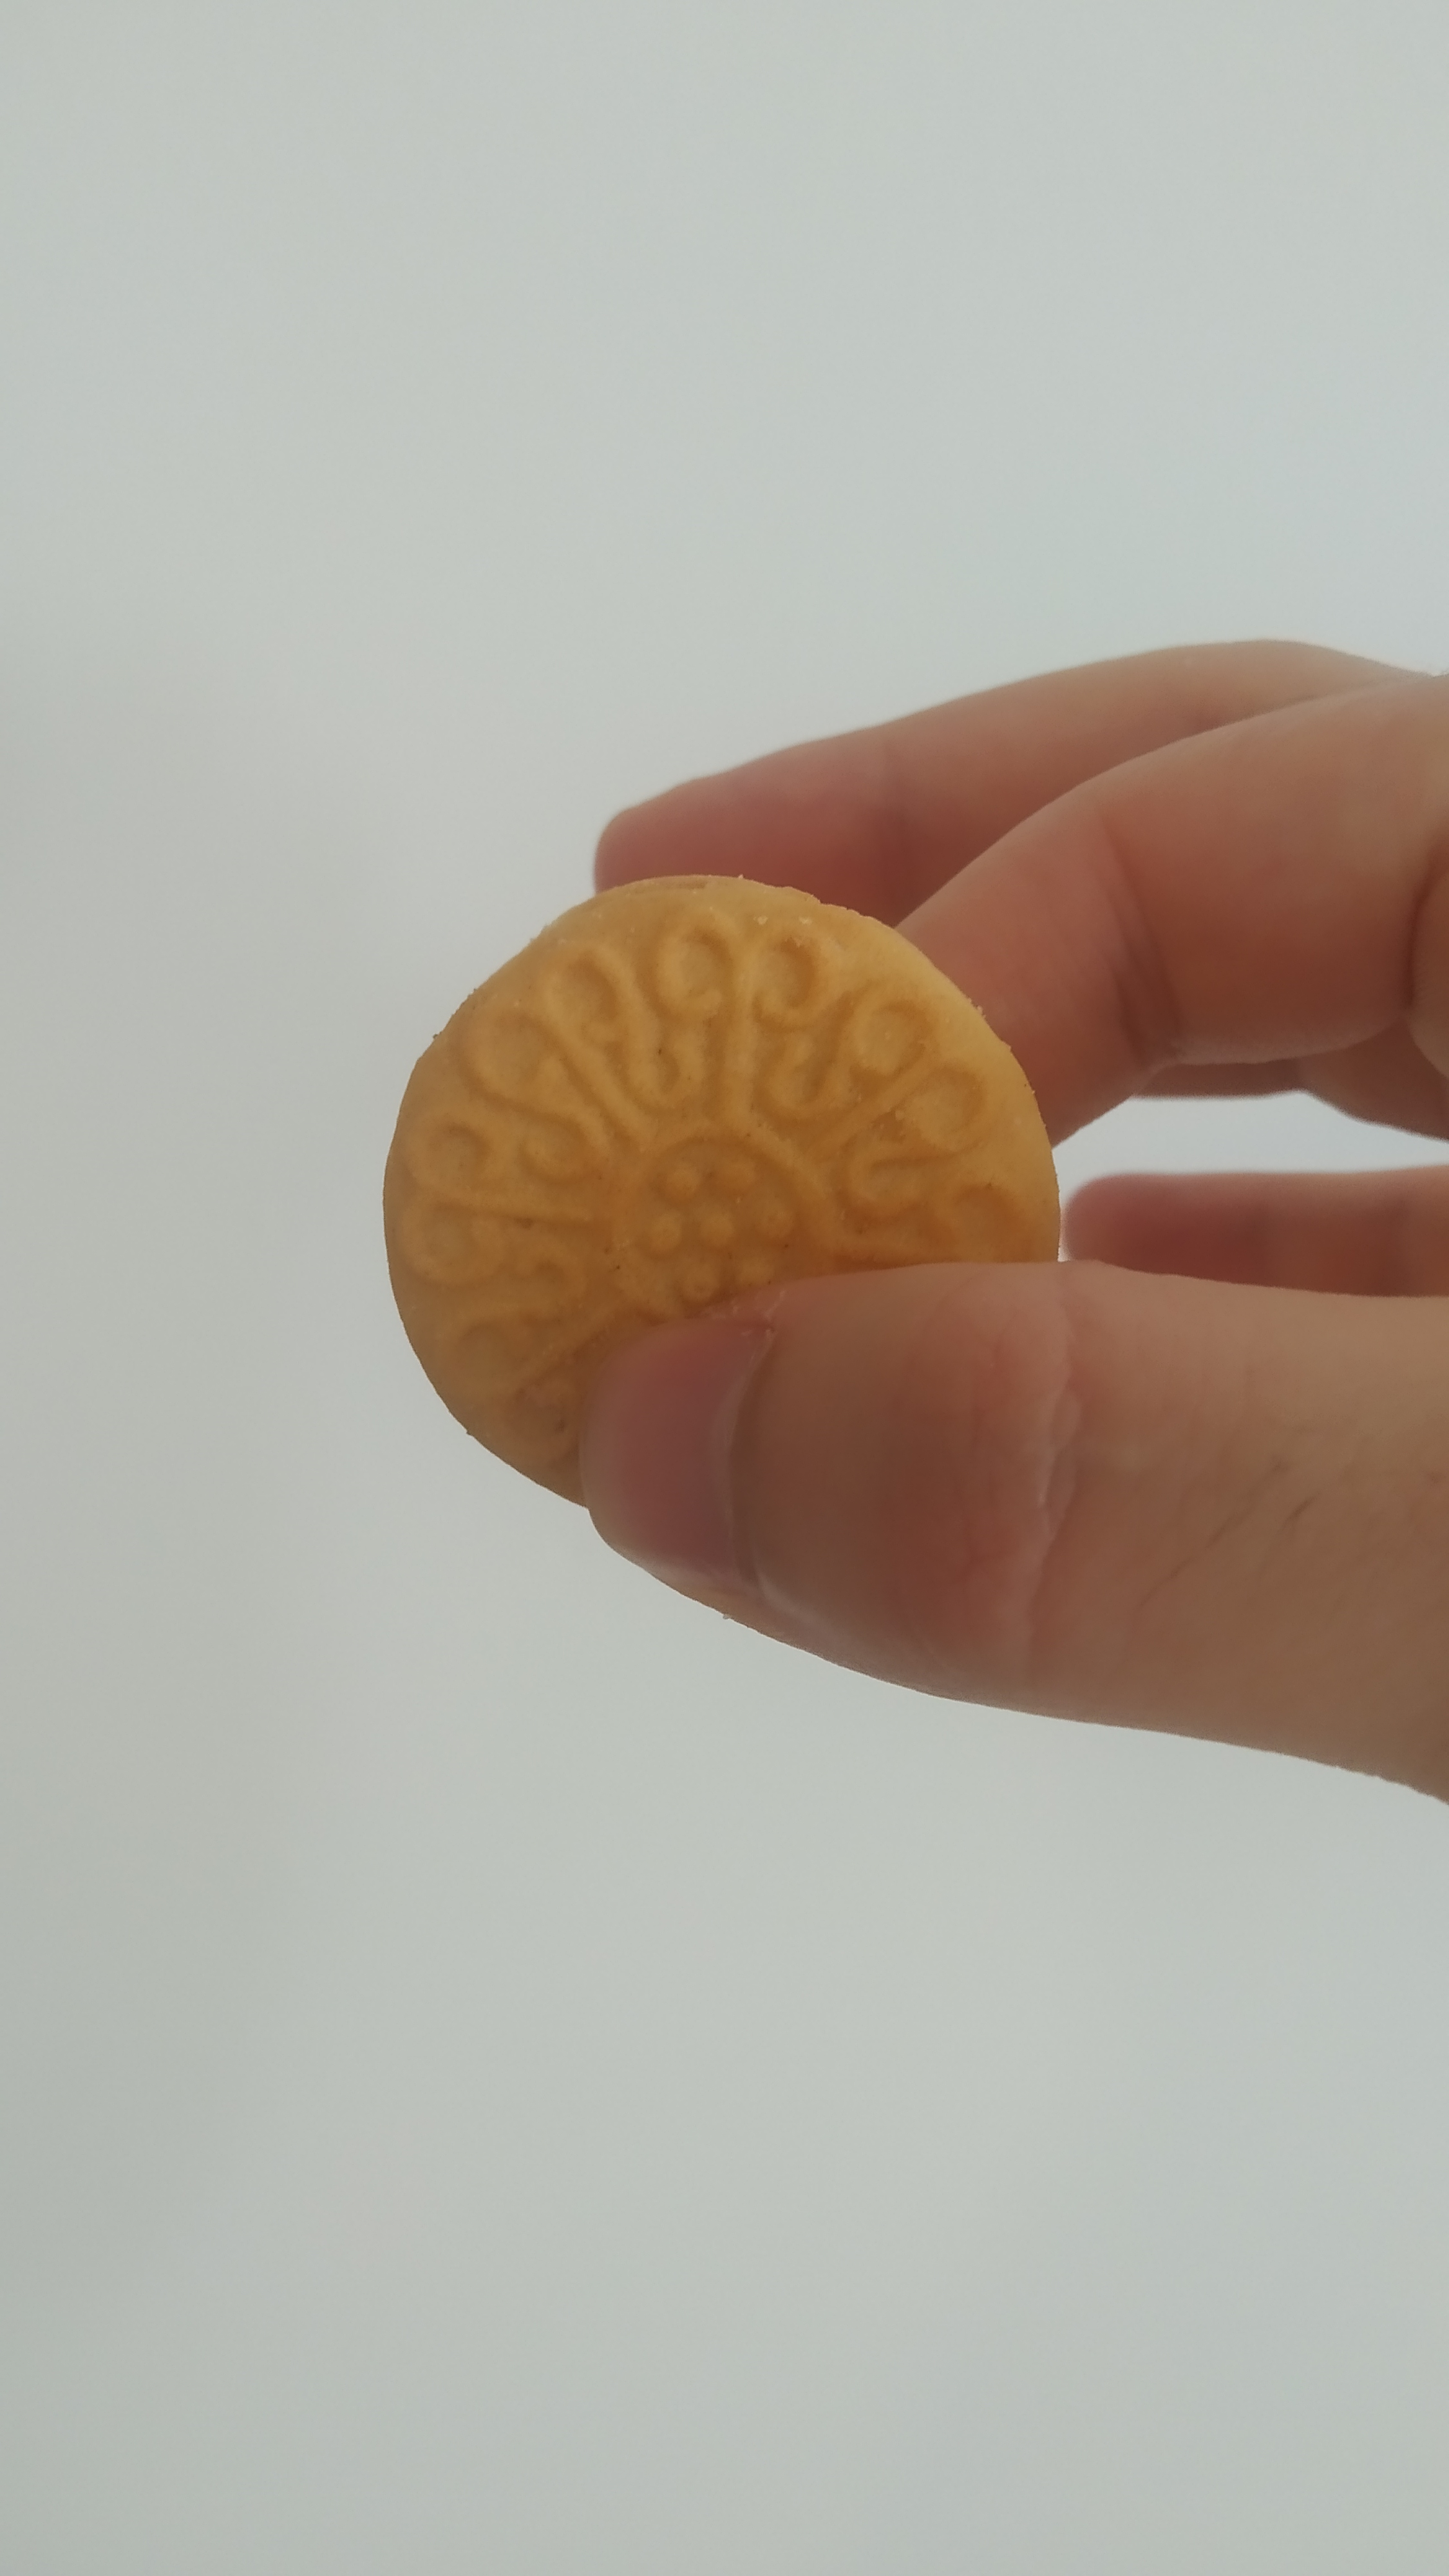lulu: (382, 874, 1067, 1532)
